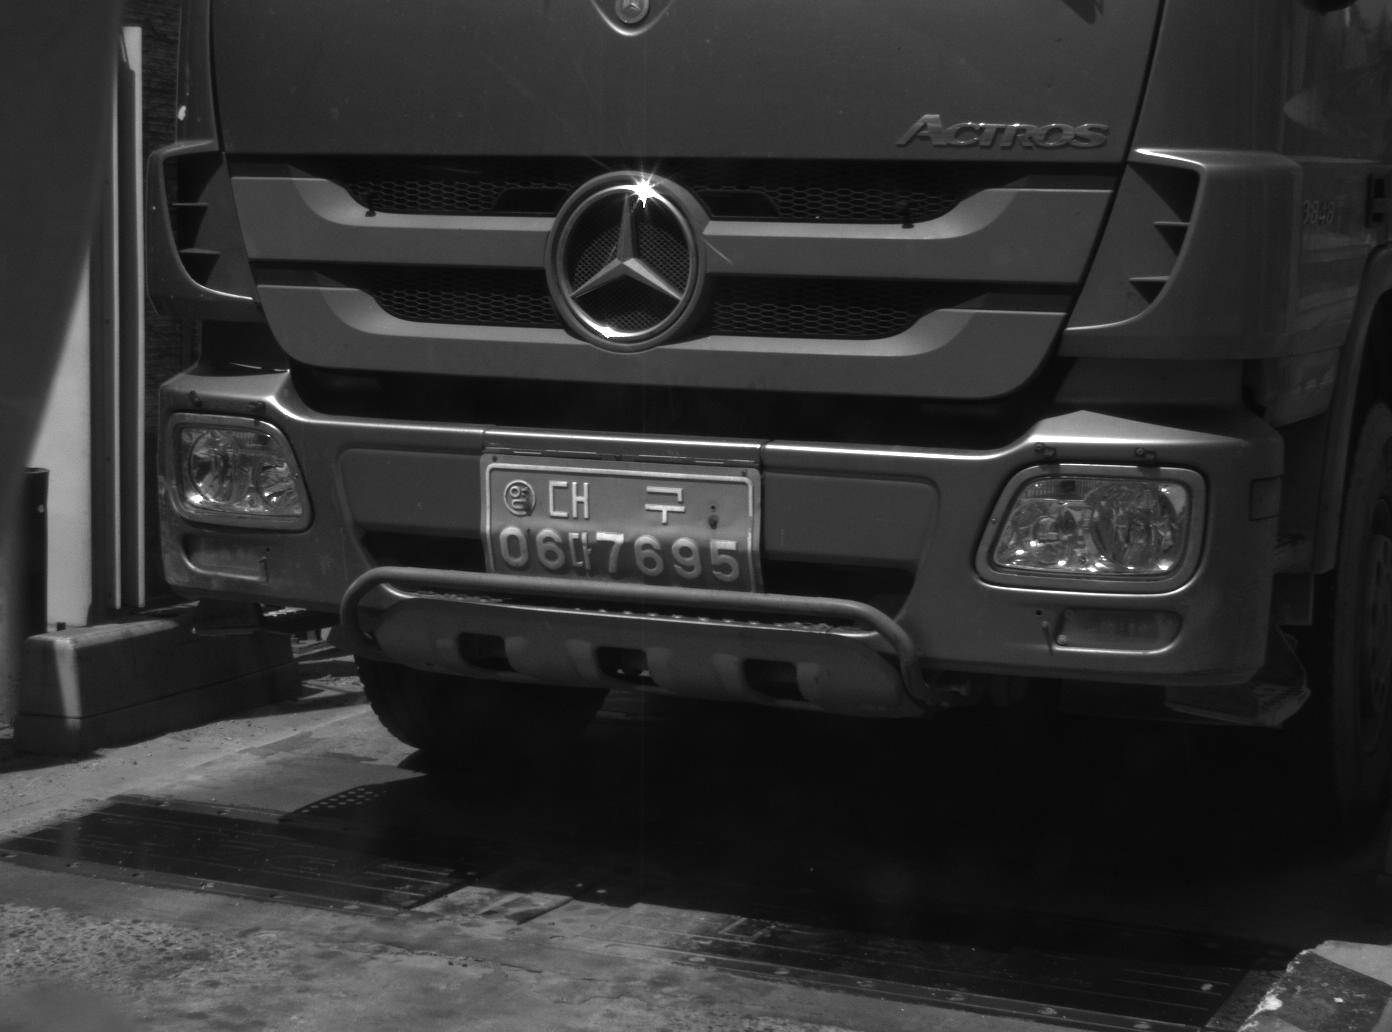car: (141, 1, 1392, 782)
plate: (480, 459, 760, 595)
